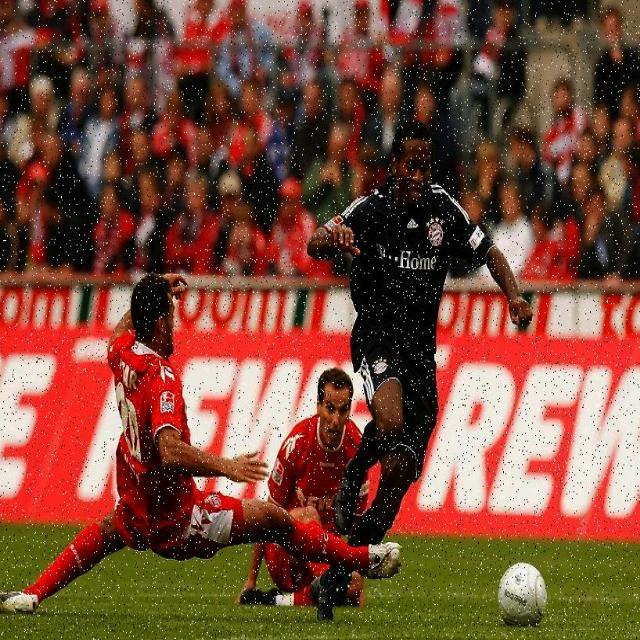fall: (15, 288, 338, 602)
